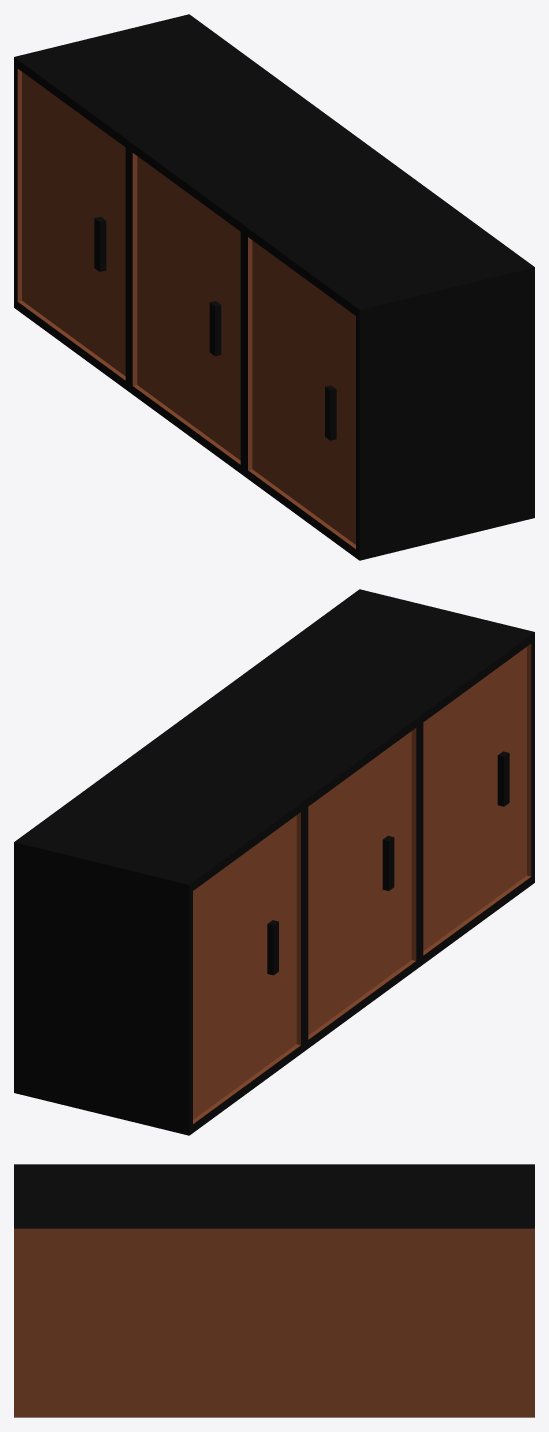
The model's file is Laboratorio_Armario.fbx.
3 views of the same model, one above another, from view 1: azimuth 30°, elevation 25°; view 2: azimuth 150°, elevation 25°; view 3: azimuth 270°, elevation 25° (orthographic). The views are drawn at different scales.
Parts seen in each view (by area): view 1: Laboratorio_Armario; view 2: Laboratorio_Armario; view 3: Laboratorio_Armario.
Boxes of the visible parts, <box> form: Laboratorio_Armario: <box>14,14,534,560</box>; Laboratorio_Armario: <box>14,589,534,1135</box>; Laboratorio_Armario: <box>14,1164,534,1417</box>.
Size of the model in its own units: 251 by 339 by 846.
